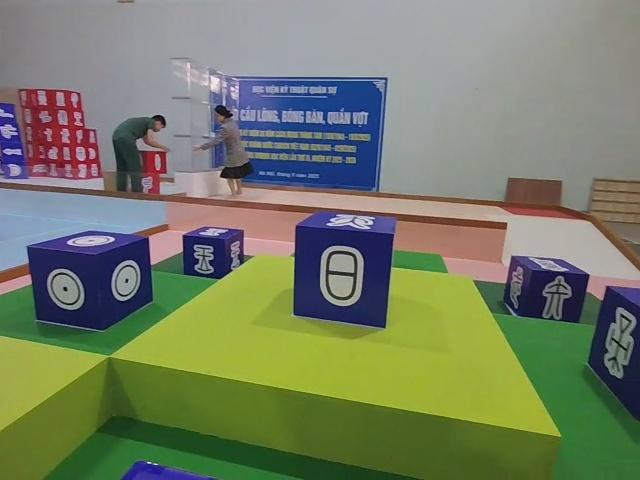R2 Fake Blue: (293, 211, 396, 330), (504, 256, 589, 324), (182, 226, 244, 280)
R2 Real Blue: (27, 231, 153, 333), (585, 286, 640, 426)
